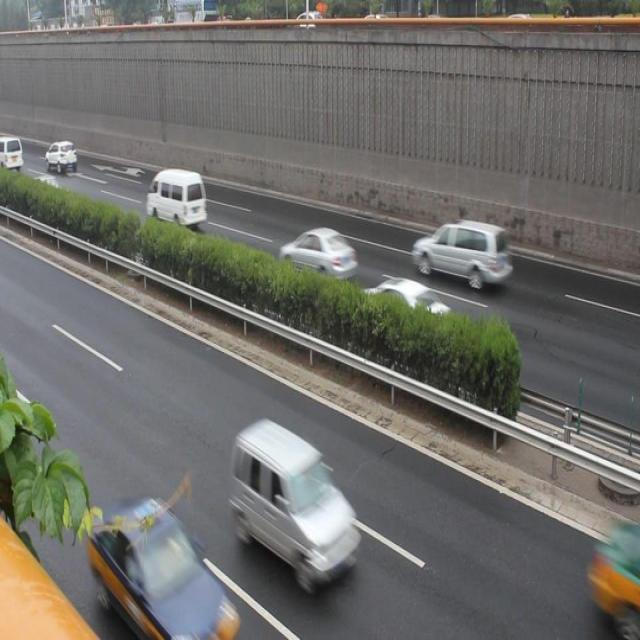car: (91, 489, 245, 640), (227, 414, 361, 586), (364, 268, 448, 340), (280, 224, 362, 286)
truck: (413, 214, 513, 290), (151, 162, 208, 234)
